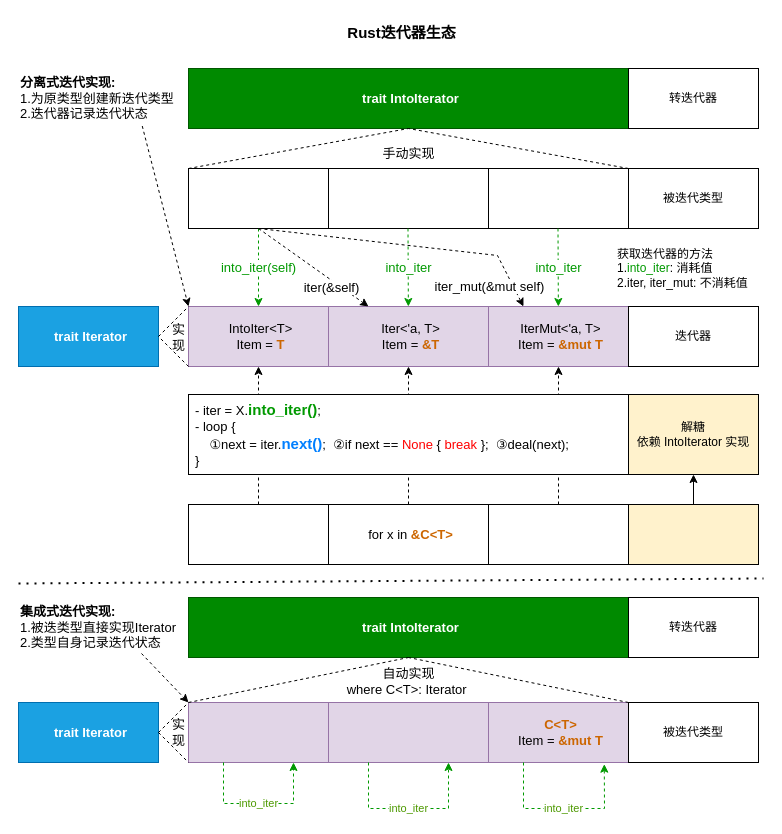
Some shapes in this 782 by 834 pixel diagram are drawn without their labels. The shapes that lost their labels are listed below. From the top down, each one's box as (x1, y1, x2, y2) in pixels, then its label:
(188, 168, 328, 228): C<T>
(328, 168, 488, 228): &C<T>
(488, 168, 628, 228): &mut C<T>
(188, 504, 328, 564): for x in C<T>
(488, 504, 628, 564): for x in &mut C<T>
(628, 504, 758, 564): for
(188, 702, 328, 762): C<T> Item = T
(328, 702, 488, 762): C<T> Item = &T
